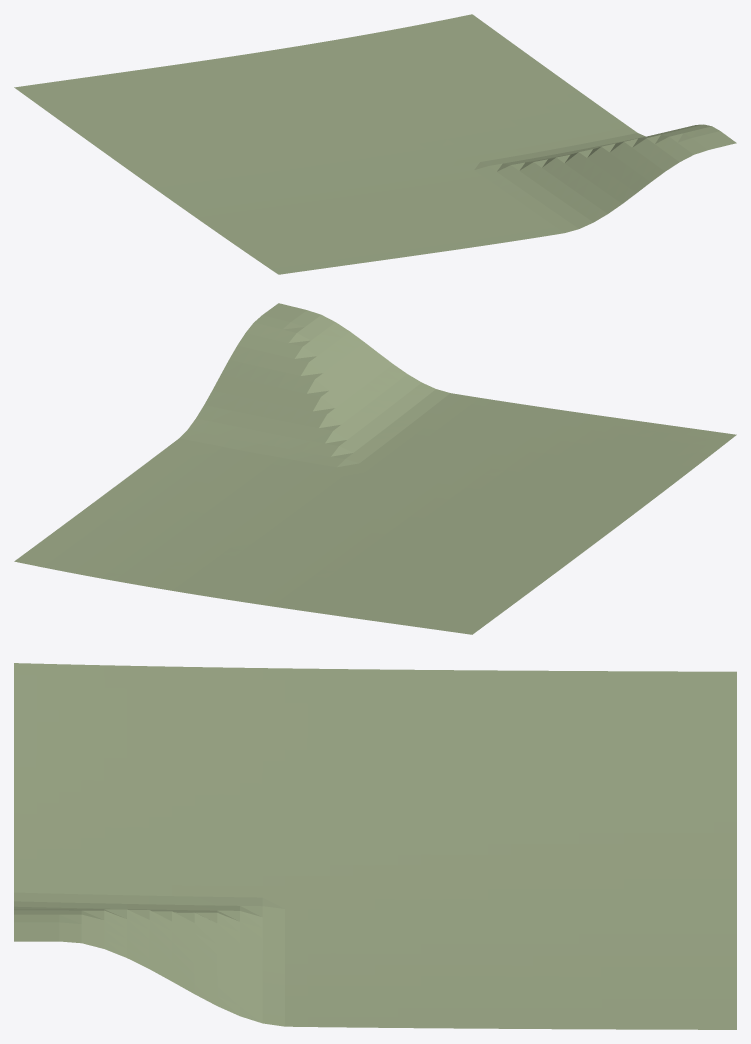
The model's file is valley-12-11.glb.
The picture shows the model from 3 angles, top to bottom: view 1: azimuth 30°, elevation 25°; view 2: azimuth 150°, elevation 25°; view 3: azimuth 270°, elevation 25°; orthographic projection. The views are drawn at different scales.
Visible parts, largest first — view 1: valley-12-11; view 2: valley-12-11; view 3: valley-12-11.
Boxes of the visible parts, x1,y1,x2,y2 form: valley-12-11: (14, 14, 736, 274); valley-12-11: (14, 303, 736, 634); valley-12-11: (14, 663, 736, 1029).
Size of the model in its own units: 256 by 34.55 by 256.
